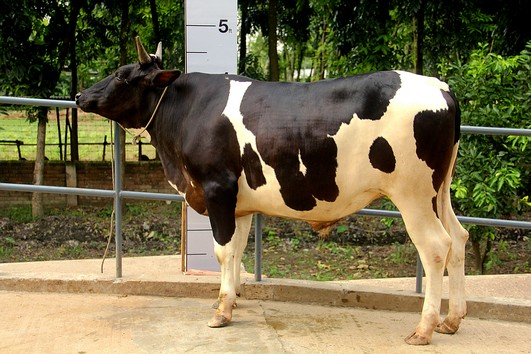cow: (63, 34, 481, 341)
